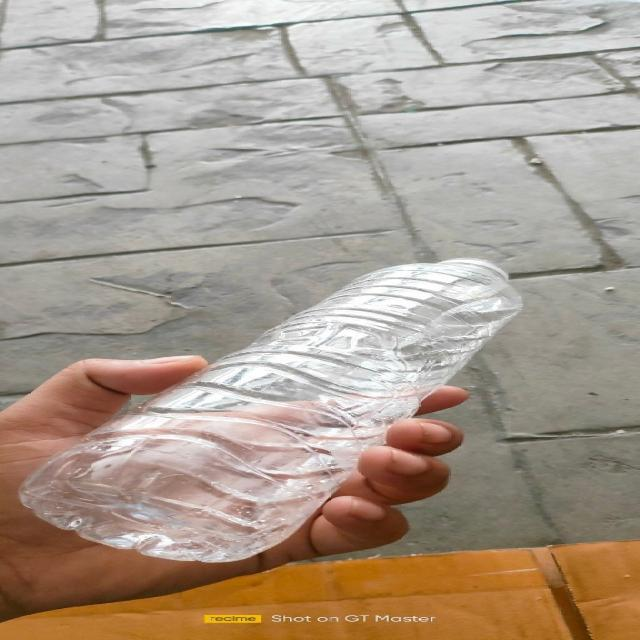bottle: (17, 259, 524, 562)
